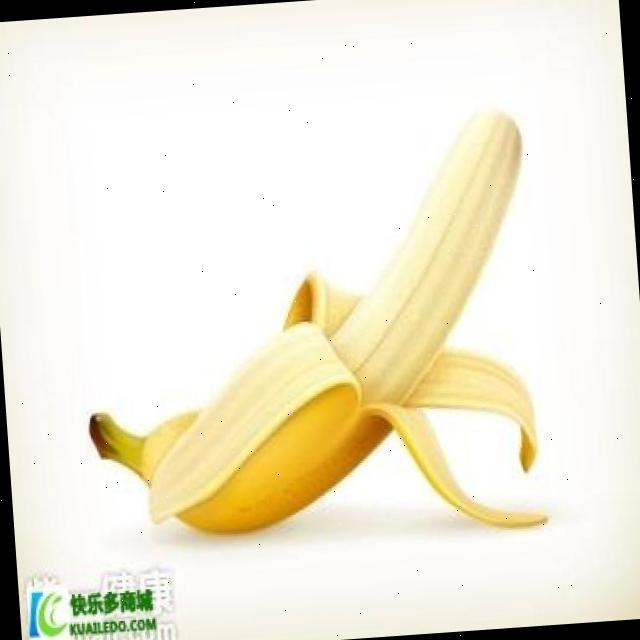banana-peel: (68, 102, 552, 556)
